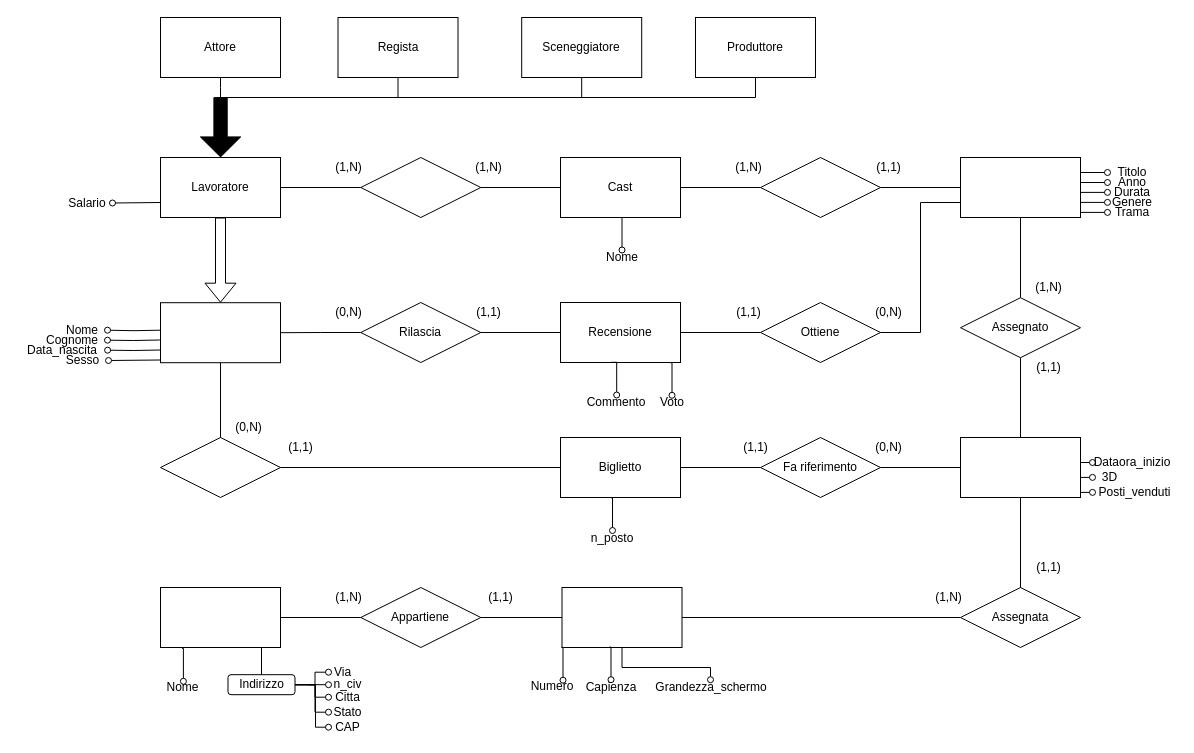
Image size: 1194x753. Some labels were removed from this diagram. The centre of each missing label's shape, as x and y in pixels:
"Cinema" belongs at [220,617].
"Compra" belongs at [220,467].
"Film" belongs at [1020,187].
"Lavora" belongs at [820,187].
"Partecipa" belongs at [420,187].
"Persona" belongs at [220,332].
"Sala" belongs at [621,617].
"Spettacolo" belongs at [1020,467].
